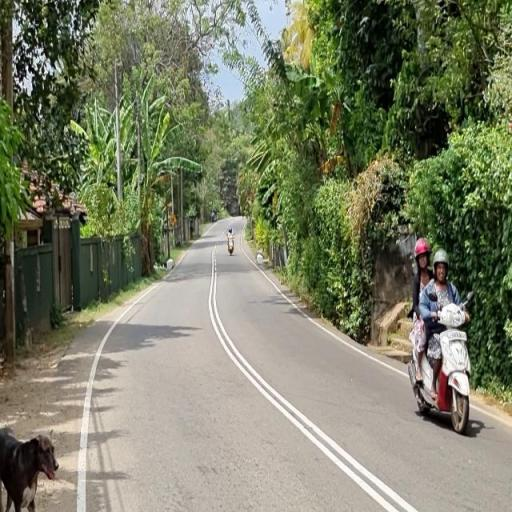double_white_line: (208, 248, 418, 512)
